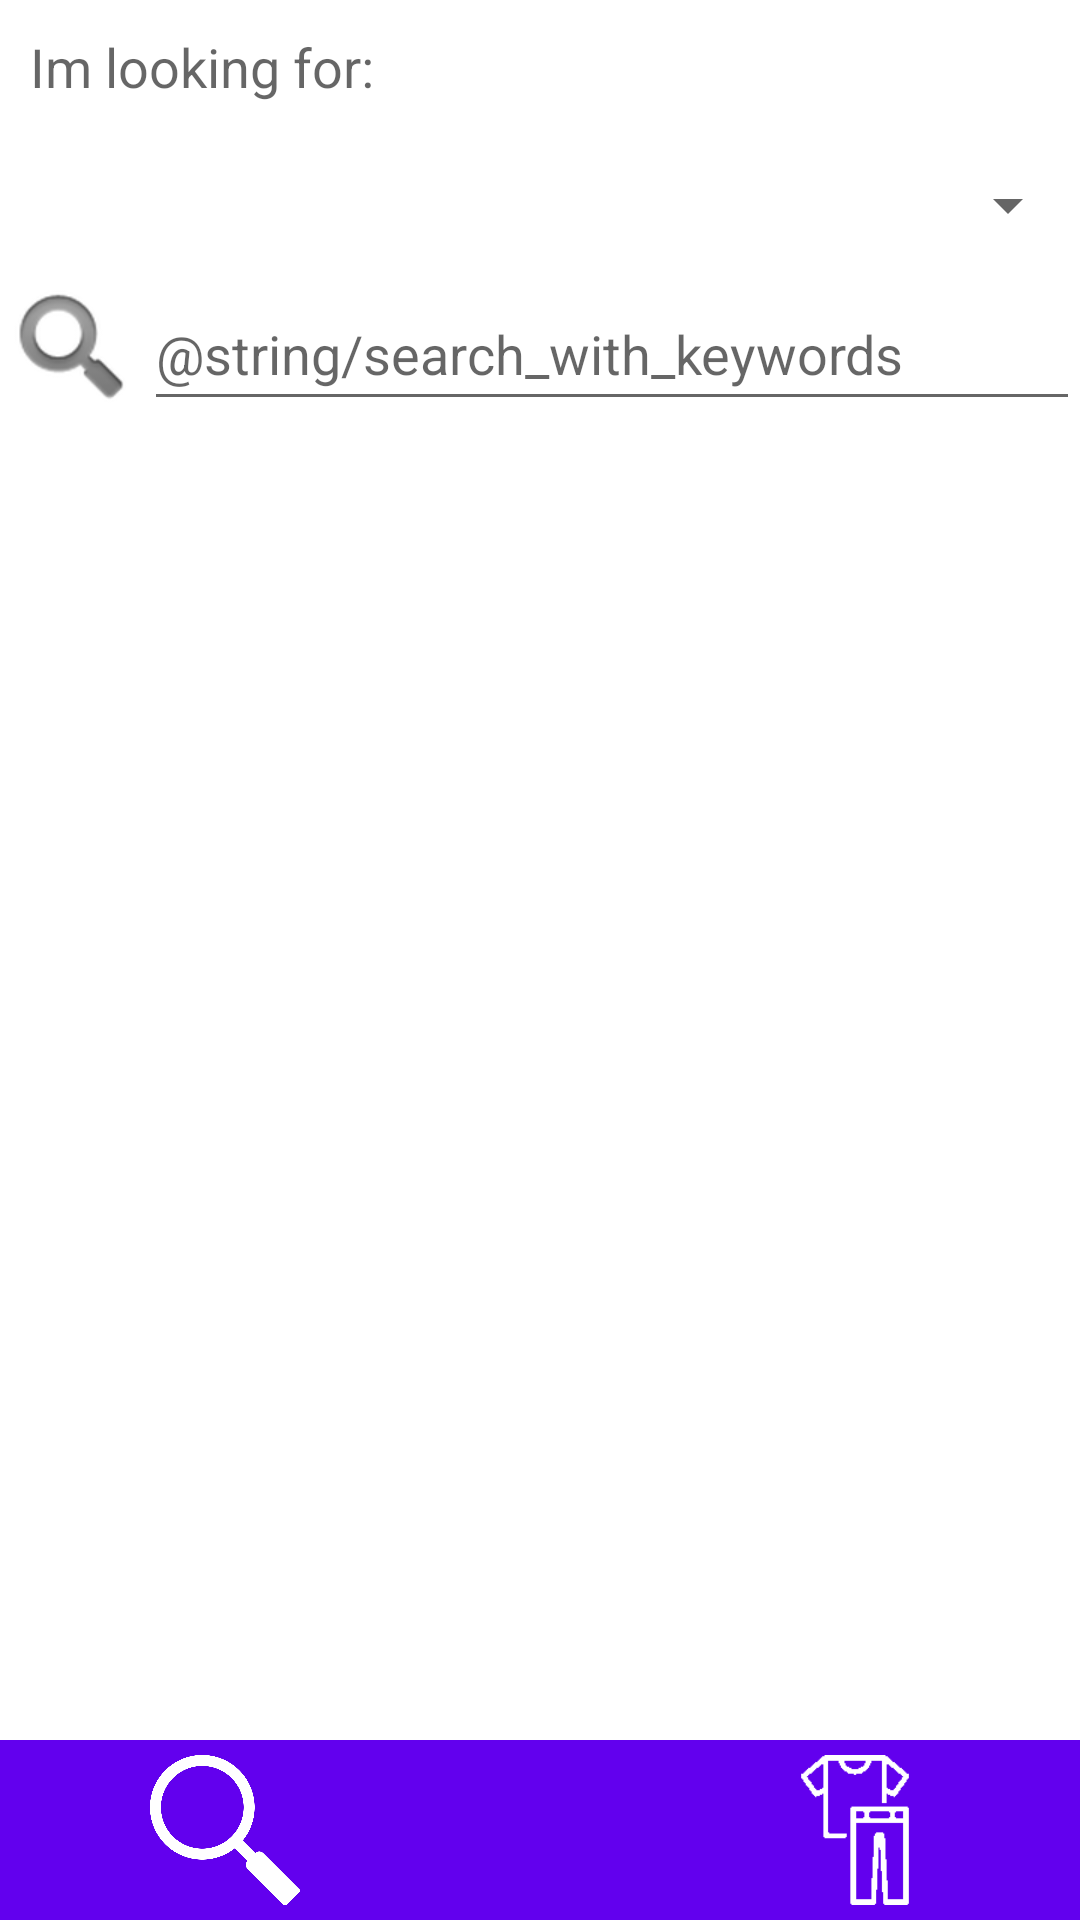

Screen size 1080 x 1920. Icon name, then its box in pixels as (x1, y1, x2, y2):
outfiticon: (801, 1755, 909, 1905)
